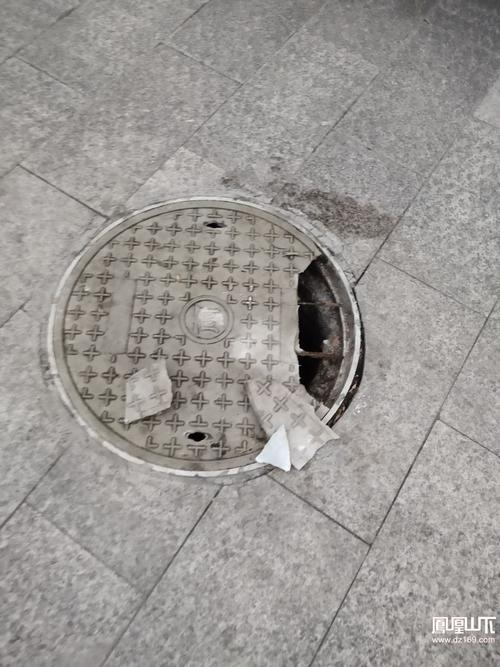broke: (41, 181, 393, 502)
